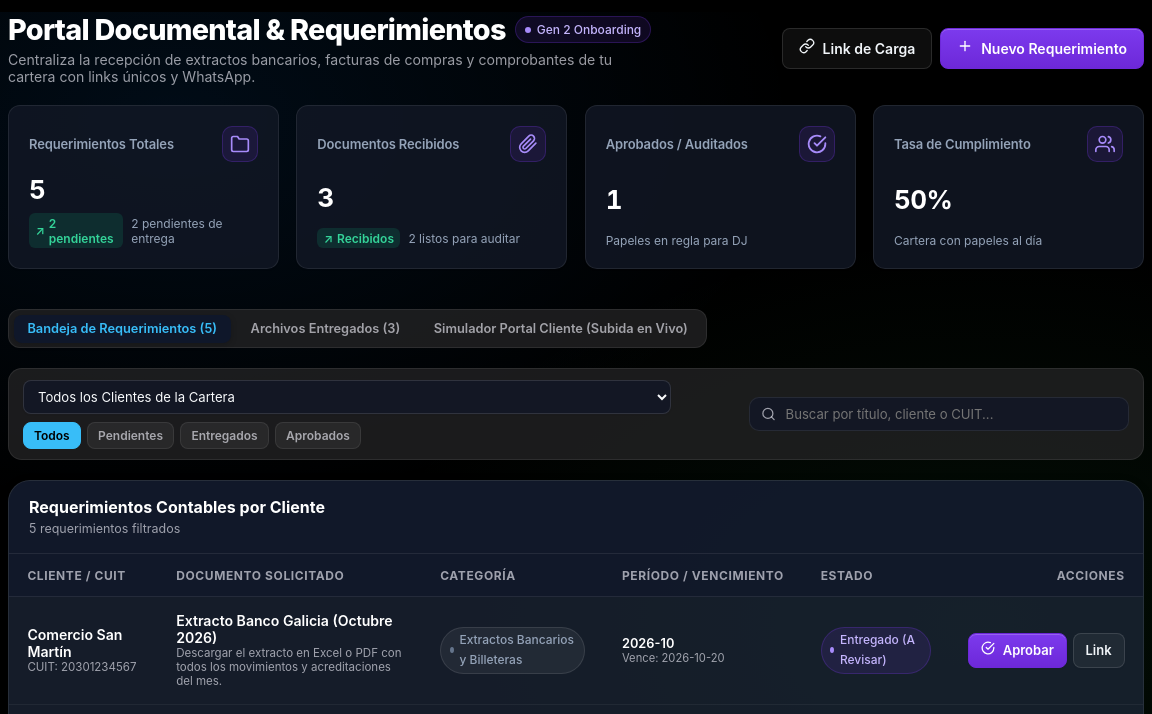
AccountantDocPortal Component › permite filtrar requerimientos por CUIT de cliente
Note: Seleccionar cliente Dra. Laura Gomez en el dropdown
Select "Consultorio Odontológico (27289876543)" in the dropdown at [347, 397], box [23,380,671,414]
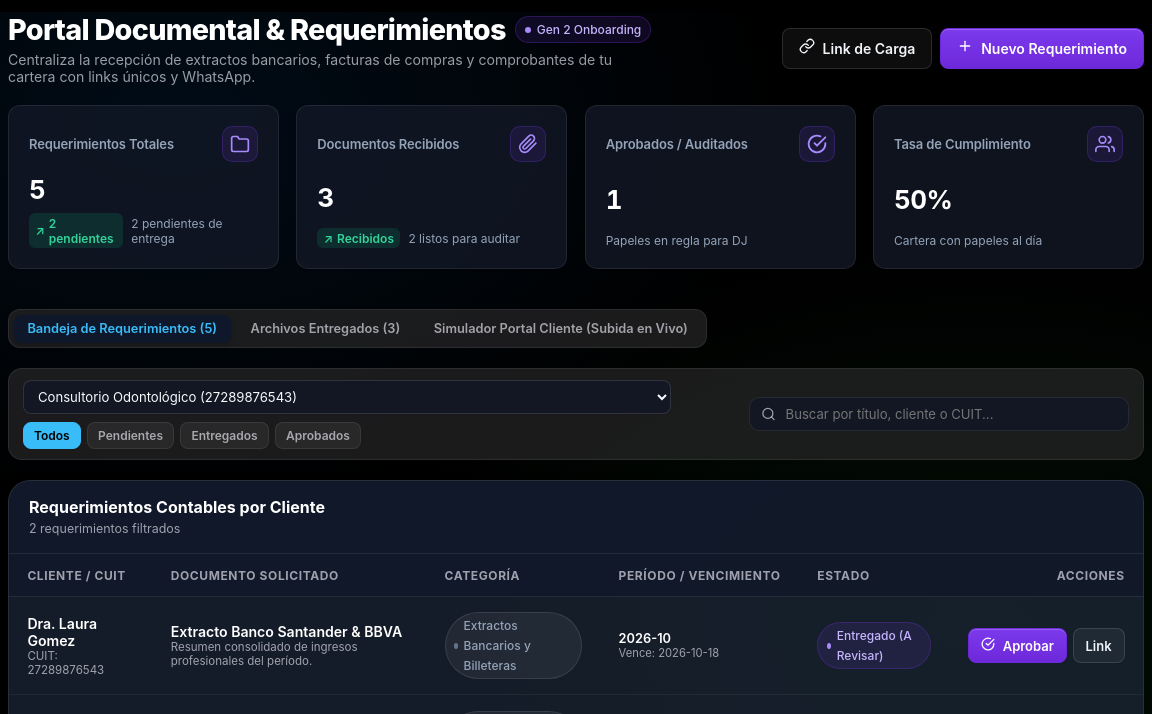
Expected: the text "Dra. Laura Gomez" next to "Extracto Banco Santander & BBVA" is shown, [27,615,97,649]
Expected: the text "Extracto Banco Galicia (Octubre 2026)" is gone
